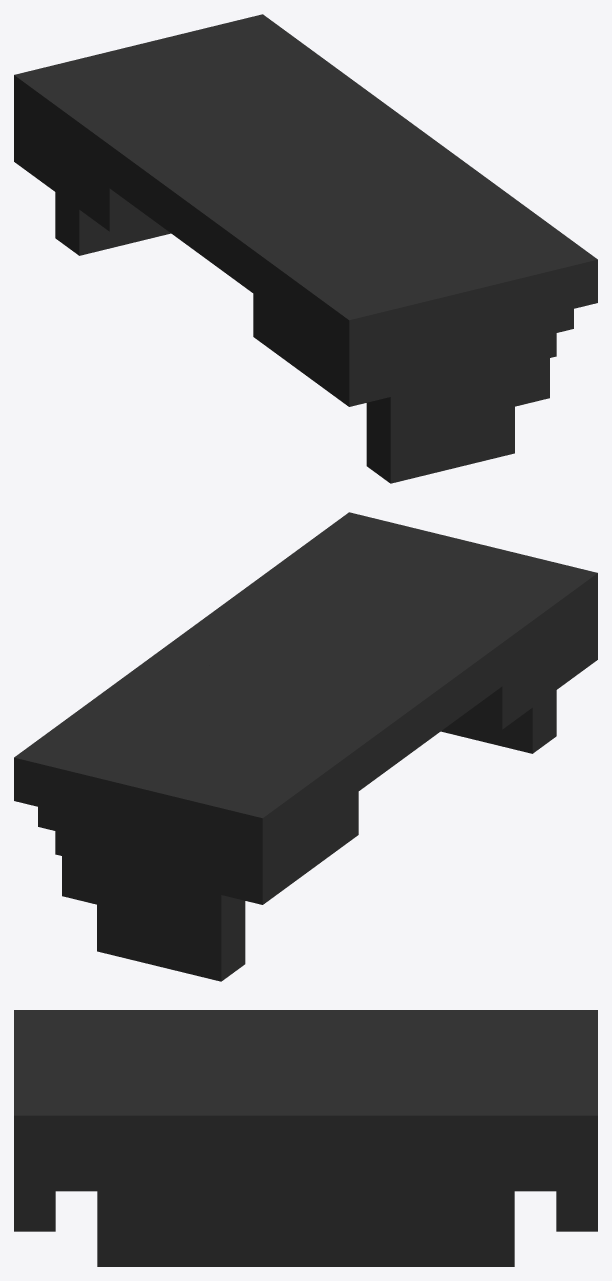
File: Mdl_TheFaceless_6.obj
3 renders of one model, top to bottom at view 1: azimuth 30°, elevation 25°; view 2: azimuth 150°, elevation 25°; view 3: azimuth 270°, elevation 25°, orthographic. The views are drawn at different scales.
Visible parts, largest first — view 1: Mdl_TheFaceless_6; view 2: Mdl_TheFaceless_6; view 3: Mdl_TheFaceless_6.
Part boxes in pixels (x1,y1,x2,y2): Mdl_TheFaceless_6: (14,14,597,483); Mdl_TheFaceless_6: (14,512,597,981); Mdl_TheFaceless_6: (14,1010,597,1266).
Size of the model in its own units: 6 by 4 by 14.
Materials: 1 (1 with a texture image).
